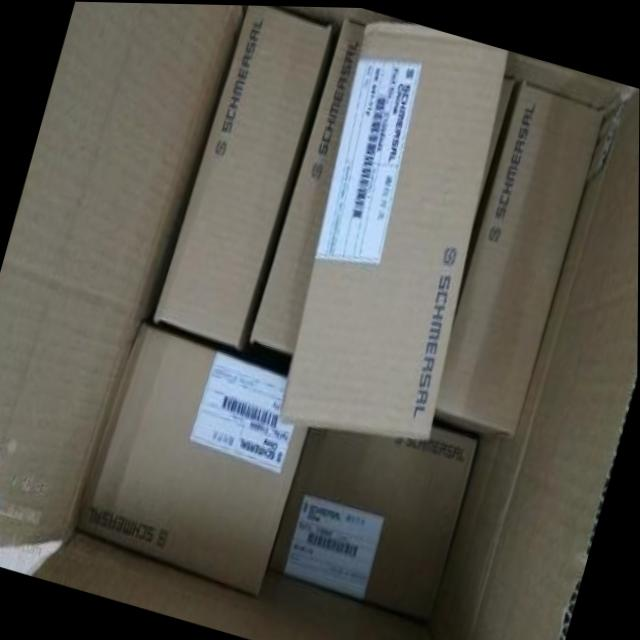box: (280, 20, 509, 440), (77, 322, 310, 595), (153, 4, 336, 347), (435, 81, 604, 438), (268, 424, 478, 620), (251, 14, 365, 352)
